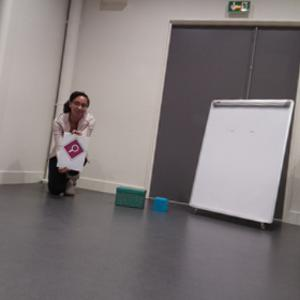search: (64, 138, 84, 158)
